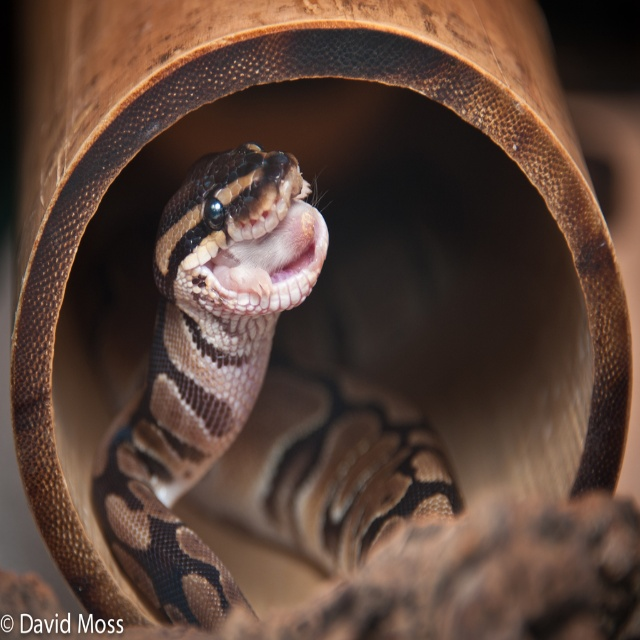Snake: (0, 141, 640, 639)
